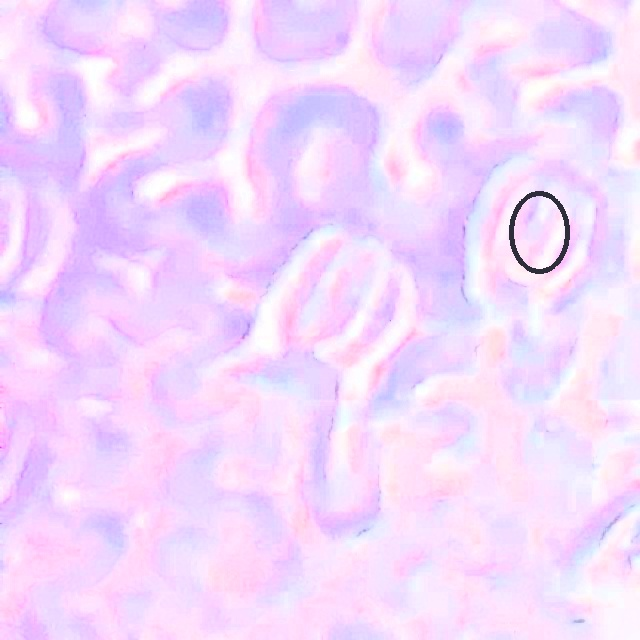open: (508, 190, 570, 274)
